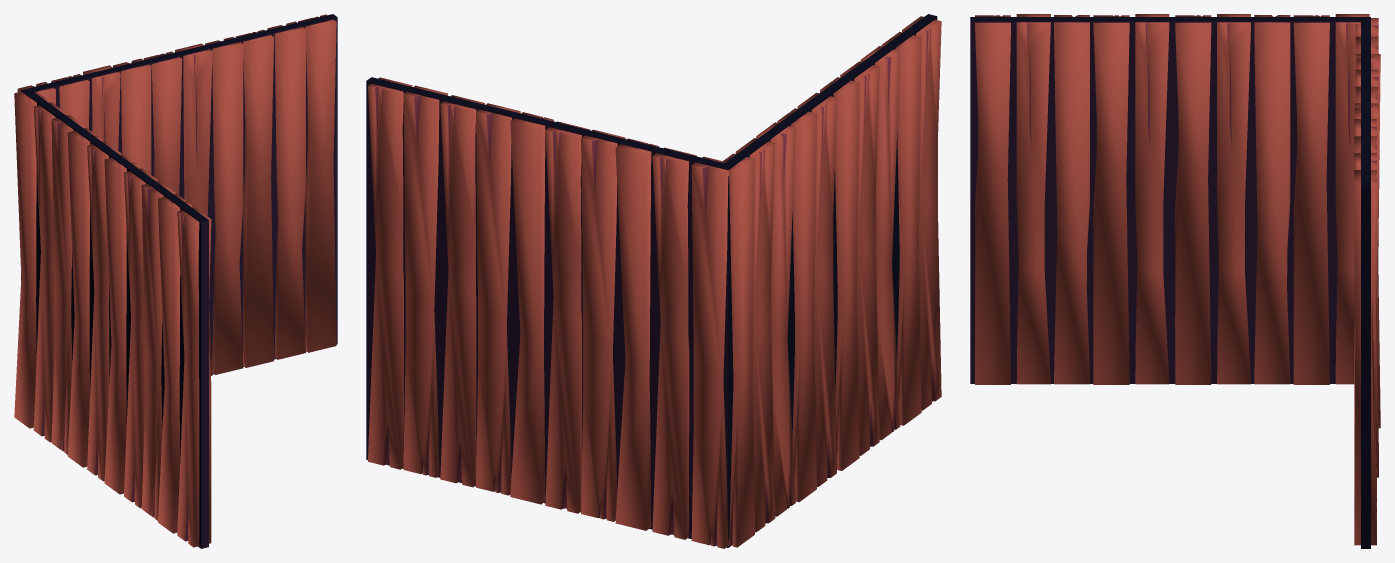
The model's file is corner_p_1.glb.
3 renders of one model, left to right at view 1: azimuth 30°, elevation 25°; view 2: azimuth 150°, elevation 25°; view 3: azimuth 270°, elevation 25°, orthographic. The views are drawn at different scales.
Parts seen in each view (by area): view 1: Cube.027; view 2: Cube.027; view 3: Cube.027.
Boxes of the visible parts, <box> form: Cube.027: <box>14,14,337,548</box>; Cube.027: <box>366,14,941,548</box>; Cube.027: <box>970,14,1380,548</box>.
Bounding box in the file's own units: 4.09 × 4 × 4.1.
Materials: 1 (1 with a texture image).
